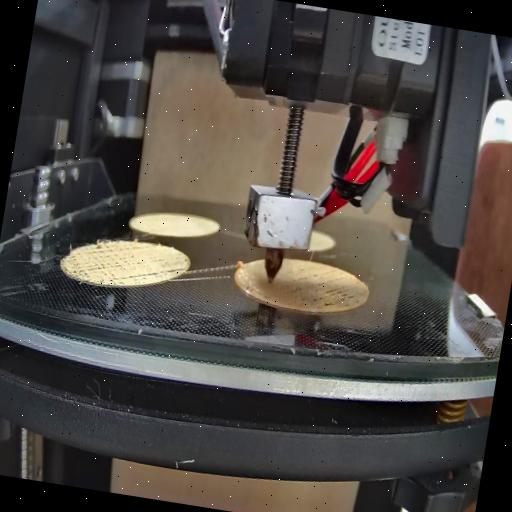under_extrusion: (60, 235, 162, 291), (287, 262, 366, 314), (162, 259, 190, 280)
